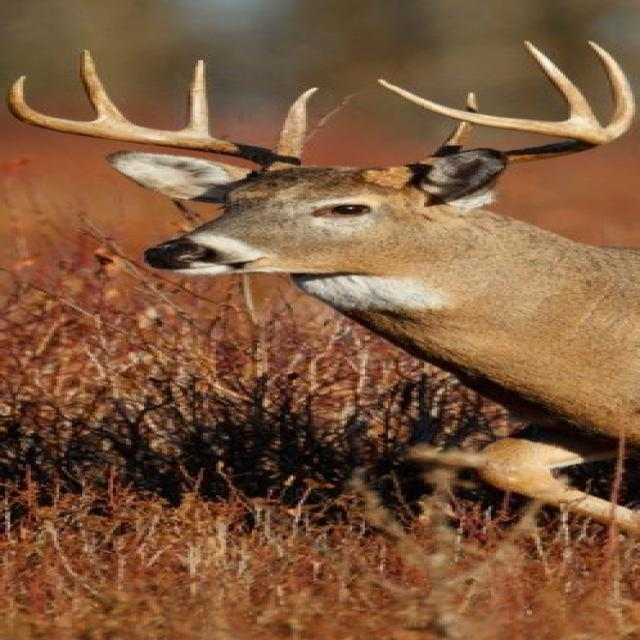L-G2: (586, 39, 637, 140)
L-G3: (523, 39, 602, 128)
R-F: (5, 74, 302, 172)
R-G1: (269, 86, 322, 158)
R-G2: (180, 58, 214, 137)
R-G3: (77, 48, 136, 124)
